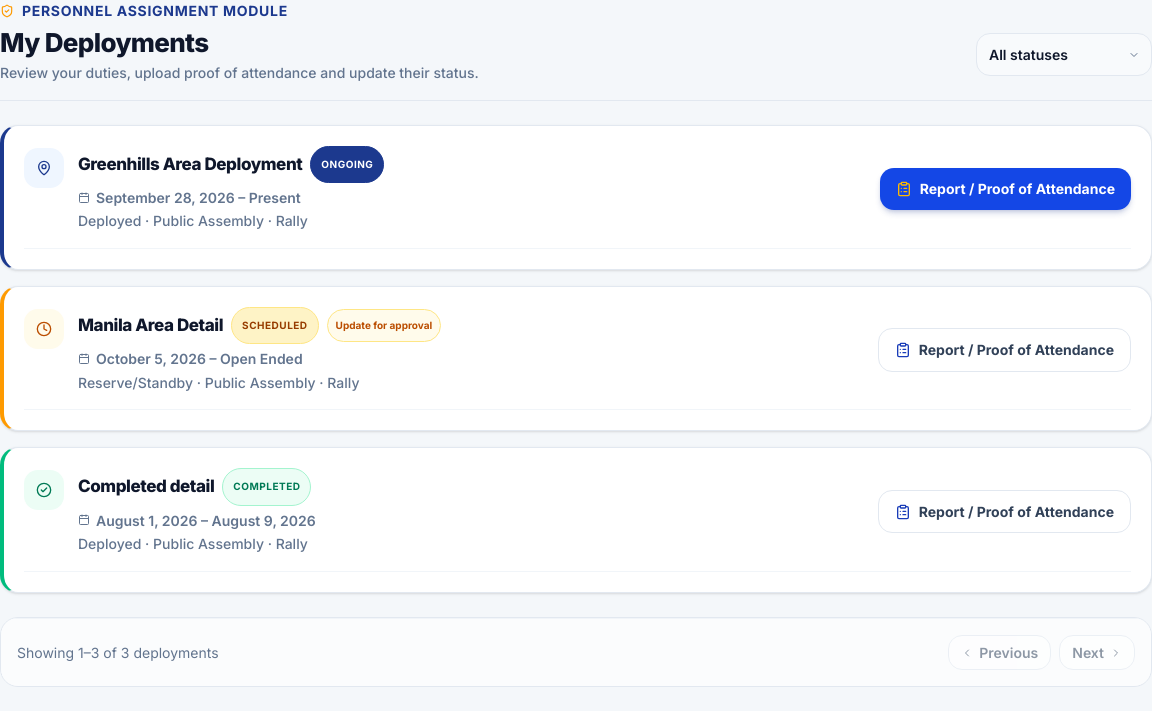
it: EmployeeDeploymentList › filters by status on the server and keeps the report action
This screenshot has width=1152, height=711.
Select "Ongoing" in the dropdown named "Filter Status": [1064, 55] box x1=976 y1=33 x2=1151 y2=76
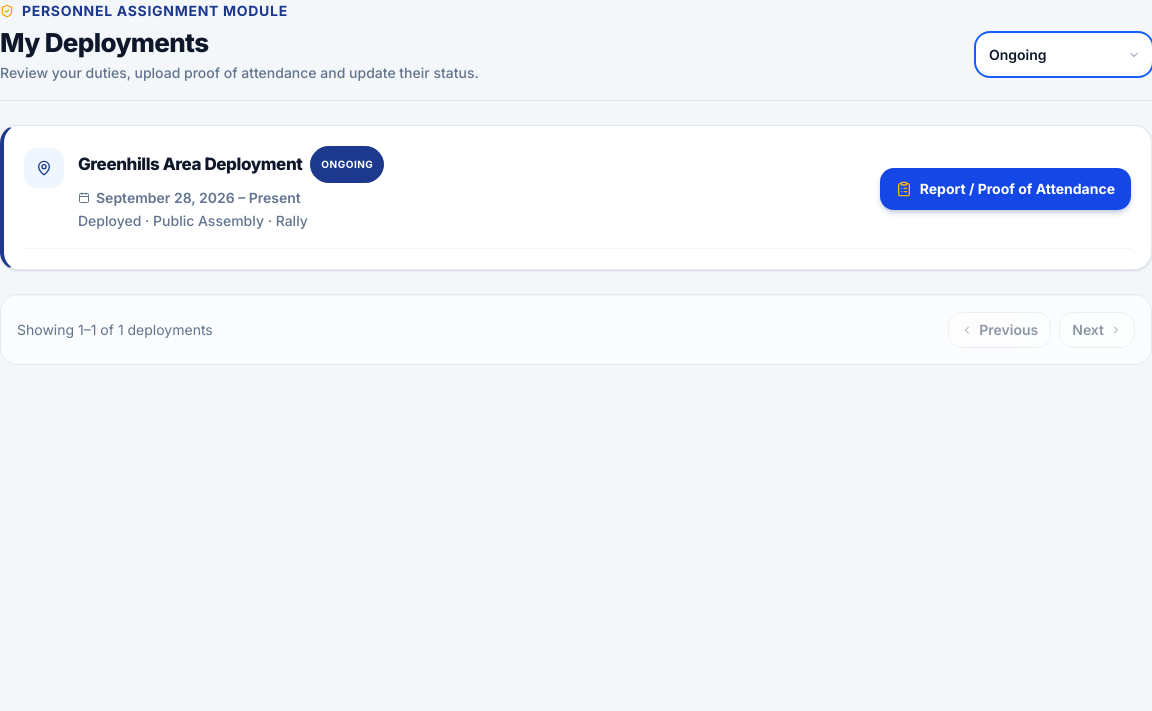
Expected: the heading "Greenhills Area Deployment" is shown, x1=78 y1=151 x2=302 y2=178
Now the heading "Completed detail" is gone
Click the button "Report / Proof of Attendance": [1005, 189] box x1=880 y1=168 x2=1131 y2=210
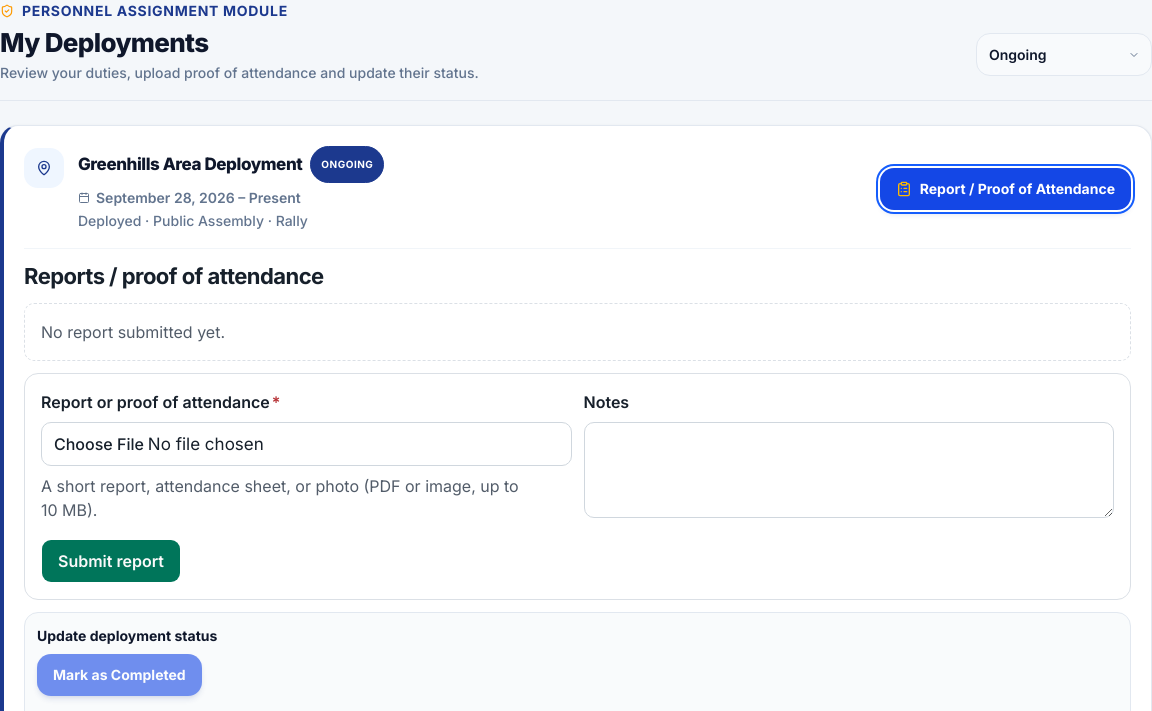
Now the button "Submit report" is shown, box x1=41 y1=539 x2=181 y2=583
